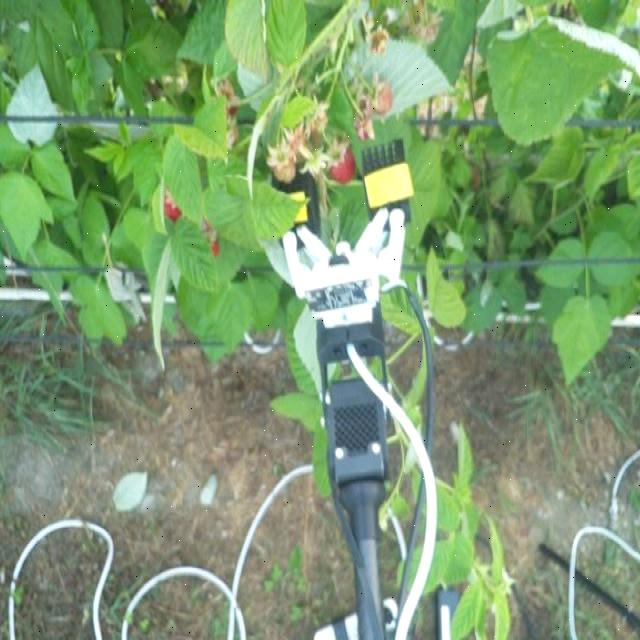Riped berries: (325, 139, 358, 185), (160, 182, 187, 222), (199, 224, 223, 256)
